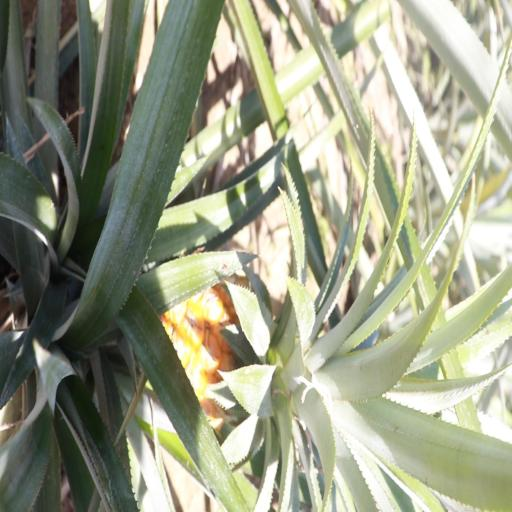Pineapple - v8 v1: (158, 258, 383, 450)
